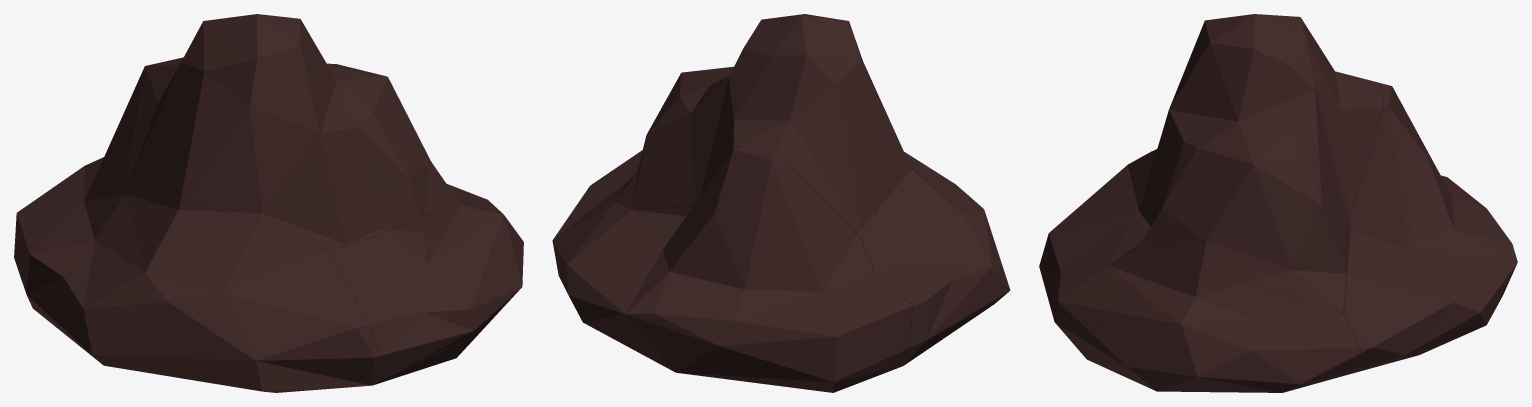
The model's file is GoldenStone4Crack.fbx.
The picture shows the model from 3 angles, left to right: view 1: azimuth 30°, elevation 25°; view 2: azimuth 150°, elevation 25°; view 3: azimuth 270°, elevation 25°; orthographic projection. The views are drawn at different scales.
Parts seen in each view (by area): view 1: Cube_cell.004, Cube_cell.005, Cube_cell.003, Cube_cell.002, Cube_cell, Cube_cell.001; view 2: Cube_cell.002, Cube_cell.004, Cube_cell.005, Cube_cell; view 3: Cube_cell.004, Cube_cell.002, Cube_cell, Cube_cell.003, Cube_cell.005, Cube_cell.001.
Part boxes in pixels (<box>): Cube_cell.004: <box>118,14,444,251</box>; Cube_cell.005: <box>24,198,385,392</box>; Cube_cell.003: <box>330,214,496,375</box>; Cube_cell.002: <box>14,57,183,286</box>; Cube_cell: <box>433,182,523,321</box>; Cube_cell.001: <box>384,308,497,381</box>; Cube_cell.002: <box>552,146,912,392</box>; Cube_cell.004: <box>594,14,907,237</box>; Cube_cell.005: <box>861,152,1010,367</box>; Cube_cell: <box>556,150,642,234</box>; Cube_cell.004: <box>1136,14,1383,312</box>; Cube_cell.002: <box>1343,83,1517,373</box>; Cube_cell: <box>1089,260,1360,392</box>; Cube_cell.003: <box>1040,205,1160,341</box>; Cube_cell.005: <box>1039,149,1156,269</box>; Cube_cell.001: <box>1065,334,1122,375</box>.
Size of the model in its own units: 252 by 174 by 253.
